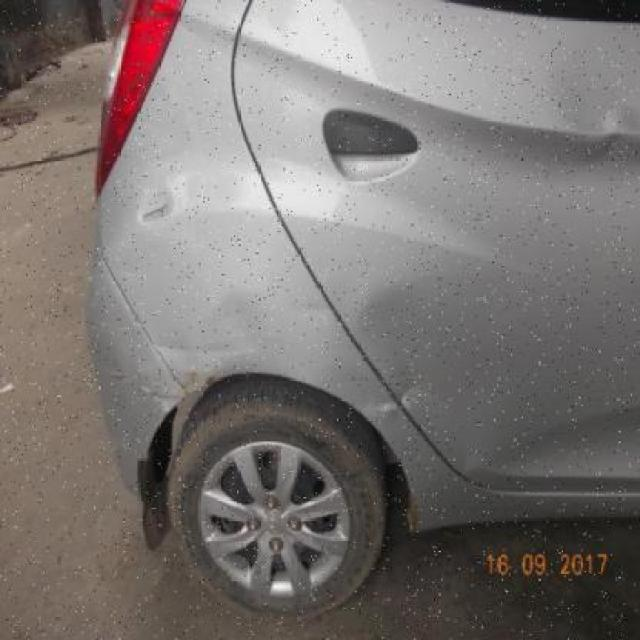doorouter-dent: (300, 6, 639, 472)
quaterpanel-dent: (136, 34, 299, 482)
rear-bumper-dent: (68, 220, 189, 573)
